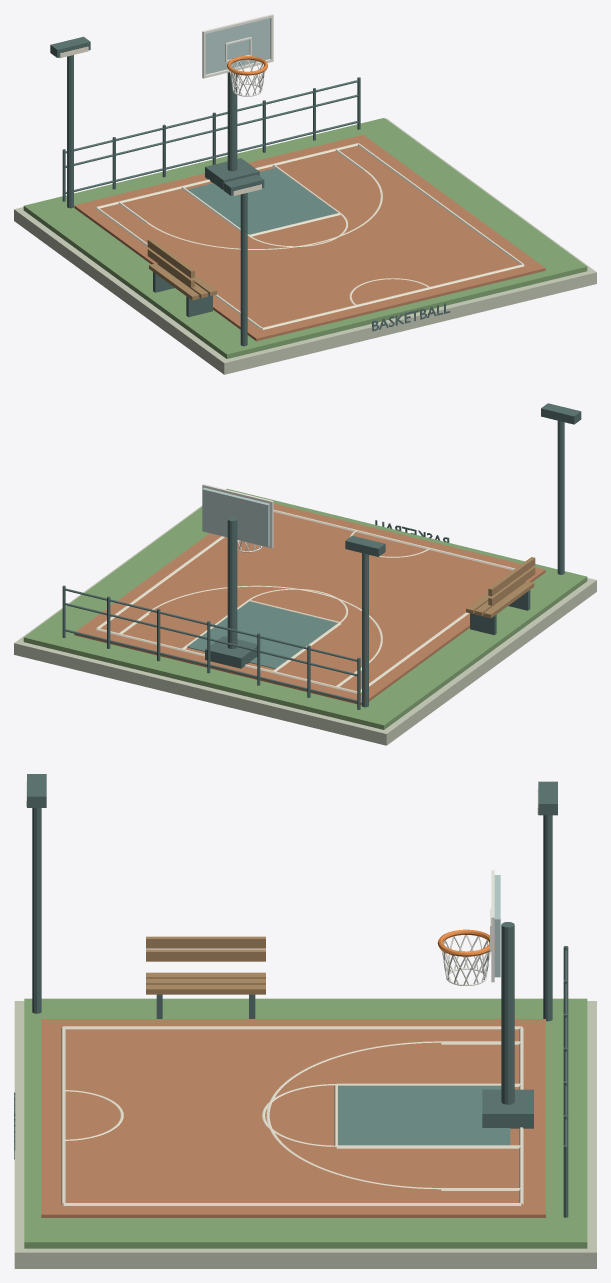
Rendered from basketball-court.glb.
The picture shows the model from 3 angles, top to bottom: view 1: azimuth 30°, elevation 25°; view 2: azimuth 150°, elevation 25°; view 3: azimuth 270°, elevation 25°; orthographic projection. The views are drawn at different scales.
Visible parts, largest first — view 1: Court Clay, Lawn, Steel, Trim, Ivory, Paint, Glass, Wood, White; view 2: Court Clay, Lawn, Steel, Trim, Paint, Ivory, Glass, Wood, White; view 3: Court Clay, Lawn, Trim, Steel, Paint, Ivory, Wood, White, Glass, Orange.
Part boxes in pixels (x1,y1,x2,y2): Court Clay: [74, 135, 545, 341]; Lawn: [23, 118, 587, 358]; Steel: [50, 36, 450, 346]; Trim: [14, 118, 596, 374]; Ivory: [60, 46, 524, 329]; Paint: [187, 168, 337, 234]; Glass: [205, 18, 270, 74]; Wood: [147, 239, 217, 300]; White: [202, 14, 273, 96]; Court Clay: [74, 503, 545, 705]; Lawn: [23, 488, 587, 729]; Steel: [62, 403, 581, 709]; Trim: [14, 505, 596, 745]; Paint: [187, 601, 337, 668]; Ivory: [96, 509, 514, 693]; Glass: [202, 488, 269, 546]; Wood: [466, 557, 535, 618]; White: [202, 484, 273, 552]; Court Clay: [41, 1019, 545, 1217]; Lawn: [24, 998, 587, 1248]; Trim: [14, 1001, 596, 1268]; Steel: [14, 774, 568, 1217]; Paint: [338, 1085, 510, 1145]; Ivory: [26, 781, 538, 1205]; Wood: [146, 936, 265, 994]; White: [441, 870, 494, 985]; Glass: [494, 875, 500, 977]; Orange: [437, 929, 489, 956].
Bounding box in the file's own units: 6.7 × 3.11 × 6.56.
